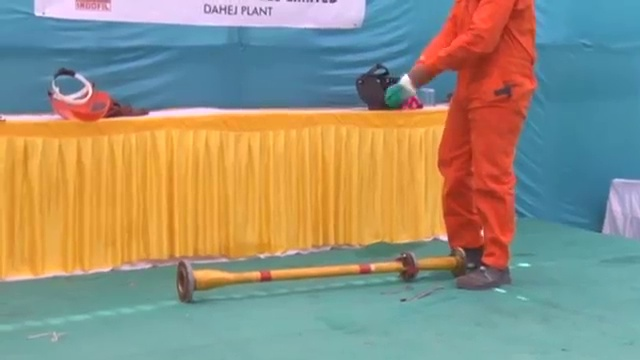person: (385, 1, 542, 287)
